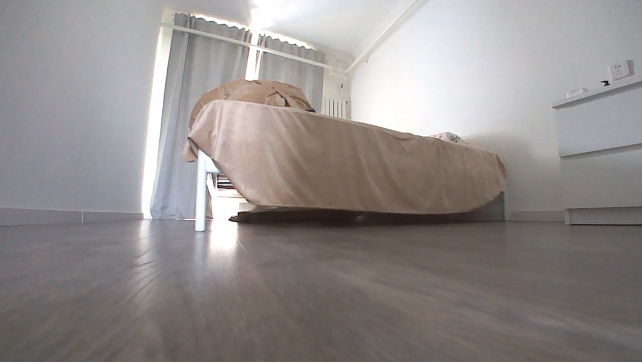bed: (176, 71, 513, 234)
cabinet: (549, 71, 641, 229)
